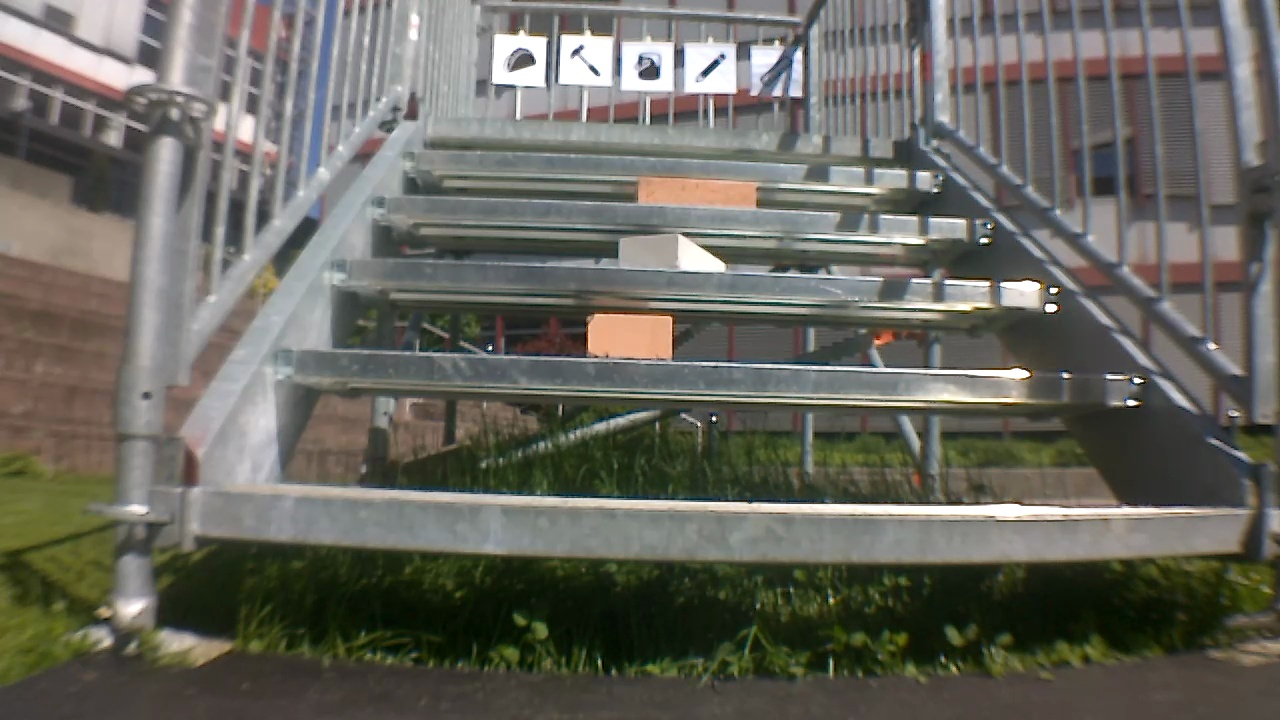brick: (617, 232, 732, 271), (581, 316, 678, 357), (635, 177, 763, 205)
edge: (197, 499, 1270, 569), (256, 354, 1160, 391), (311, 261, 1065, 304), (353, 195, 1011, 240), (397, 147, 950, 184), (423, 123, 913, 146)
stairs: (128, 0, 1280, 638), (162, 116, 1265, 558)
